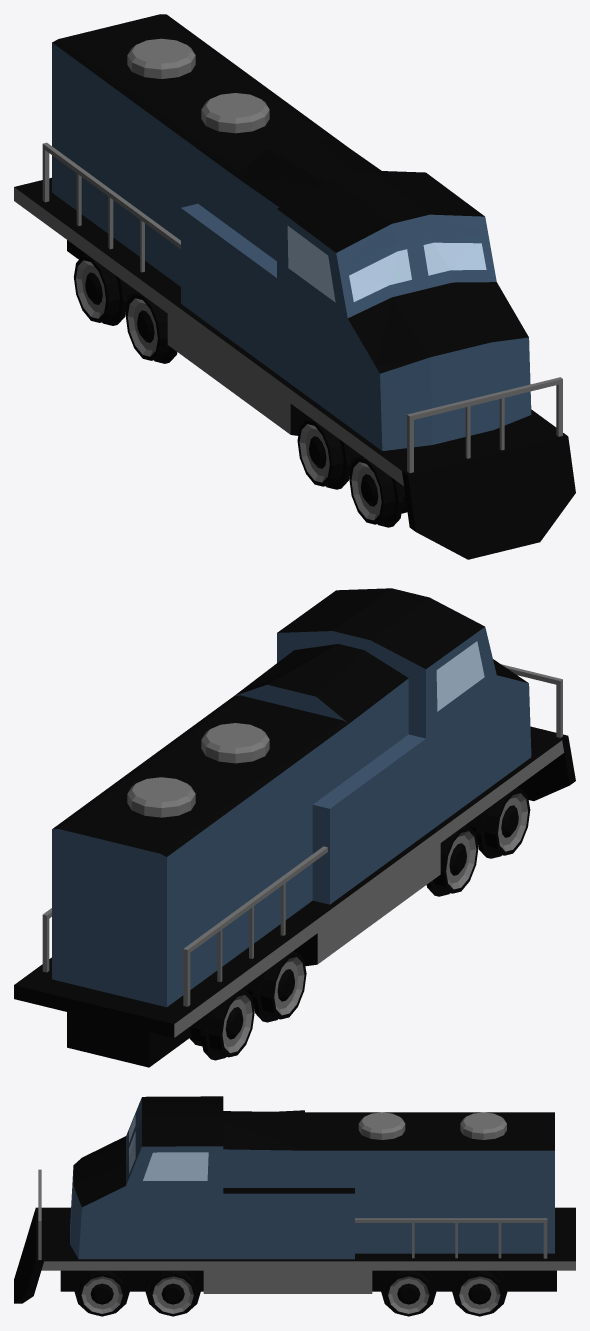
File: 1392 Train.gltf
The picture shows the model from 3 angles, top to bottom: view 1: azimuth 30°, elevation 25°; view 2: azimuth 150°, elevation 25°; view 3: azimuth 270°, elevation 25°; orthographic projection. The views are drawn at different scales.
Visible parts, largest first — view 1: node-0; view 2: node-0; view 3: node-0.
Part boxes in pixels (<box>): node-0: <box>14,14,575,559</box>; node-0: <box>14,588,575,1067</box>; node-0: <box>14,1096,575,1316</box>.
Bounding box in the file's own units: 25.96 × 41.87 × 115.
1 material, 1 textured.
